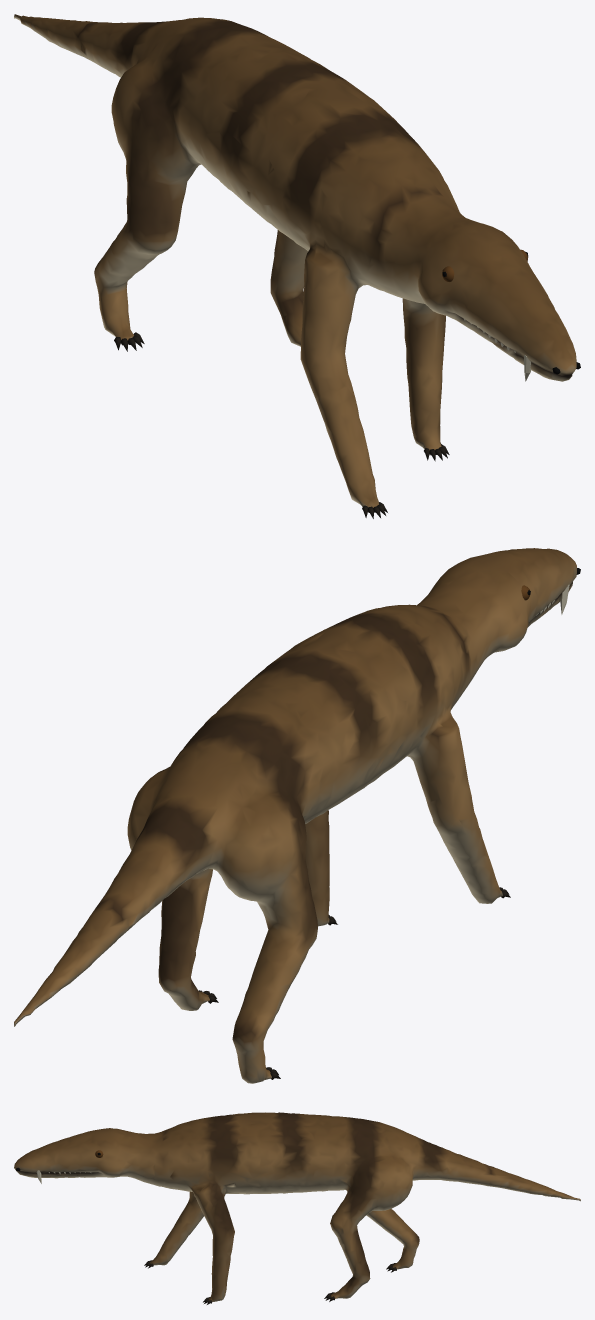
The model's file is Trucidocynodon.fbx.
The picture shows the model from 3 angles, top to bottom: view 1: azimuth 30°, elevation 25°; view 2: azimuth 150°, elevation 25°; view 3: azimuth 270°, elevation 25°; orthographic projection. The views are drawn at different scales.
Parts seen in each view (by area): view 1: Trucidocynodon; view 2: Trucidocynodon; view 3: Trucidocynodon.
Boxes of the visible parts, <box> form: Trucidocynodon: <box>14,14,580,518</box>; Trucidocynodon: <box>14,548,580,1083</box>; Trucidocynodon: <box>14,1112,580,1304</box>.
Size of the model in its own units: 0.3073 by 0.5716 by 1.71.
